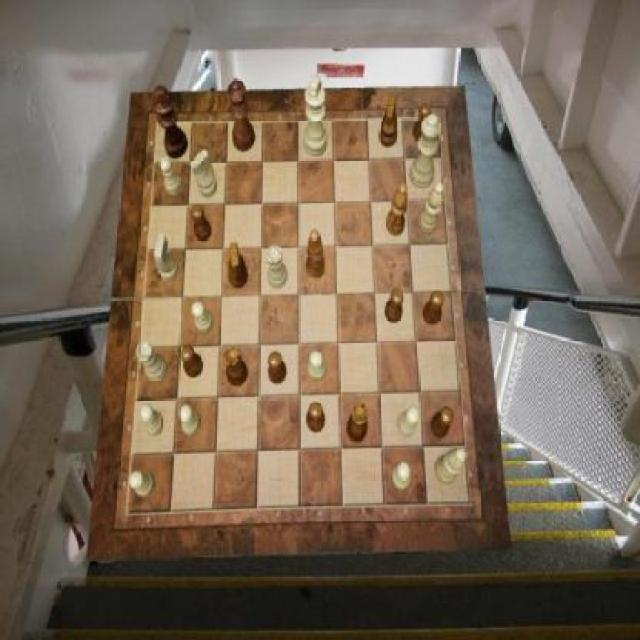bishop: (386, 182, 409, 236), (306, 230, 326, 278)
black-bishop: (154, 86, 189, 159)
black-king: (228, 243, 248, 289), (379, 94, 396, 148)
black-knight: (431, 406, 454, 439), (182, 344, 204, 378), (423, 291, 444, 325), (192, 206, 212, 241), (414, 103, 431, 142), (268, 350, 287, 384), (306, 402, 326, 432), (385, 289, 402, 323)
black-pawn: (229, 78, 257, 152)
black-queen: (224, 348, 248, 388), (348, 403, 368, 443)
black-rook: (419, 182, 443, 236), (435, 446, 468, 484)
white-bishop: (304, 75, 328, 157)
white-king: (190, 150, 218, 198), (154, 234, 178, 281)
white-knight: (160, 157, 183, 195), (140, 403, 164, 437), (192, 301, 215, 334), (397, 406, 420, 437), (178, 405, 200, 437), (130, 471, 156, 497), (392, 463, 412, 491), (308, 351, 325, 382)
white-pawn: (409, 114, 442, 188)
white-queen: (137, 343, 168, 383), (268, 246, 288, 290)
